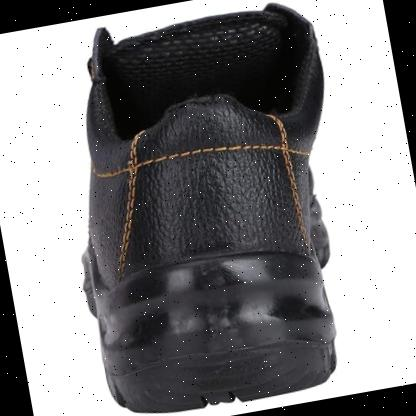bota: (32, 0, 382, 416)
